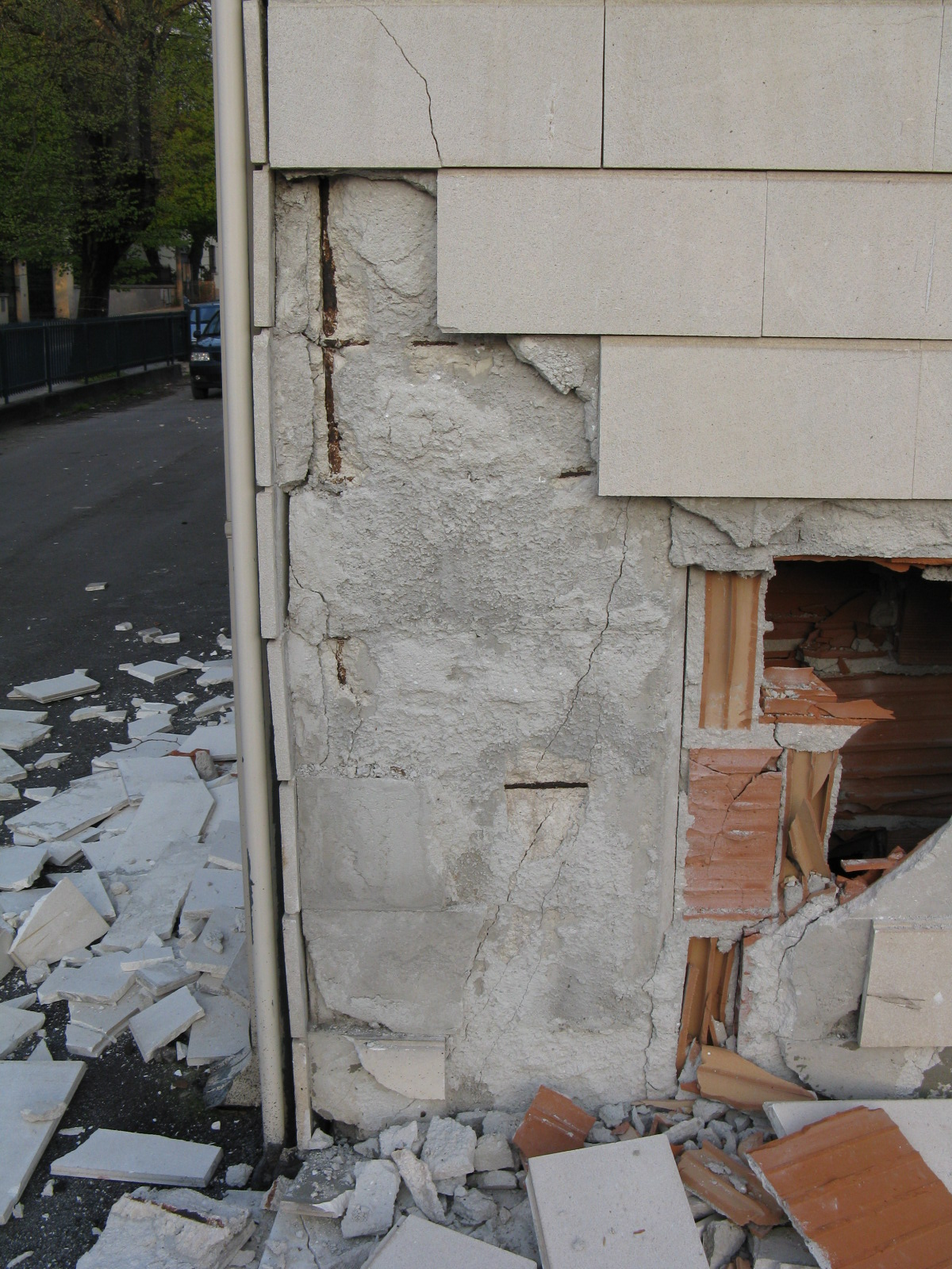Corrosion/Exposed rebar: (298, 189, 461, 482), (484, 764, 604, 811), (323, 619, 353, 707)
Crack: (402, 496, 646, 1089)
Debris: (6, 553, 251, 1265), (255, 1103, 947, 1267)
Non structural damage: (262, 3, 676, 1117)
Other damage/mechanism: (689, 546, 950, 1118)
Spalling: (282, 184, 604, 833)
